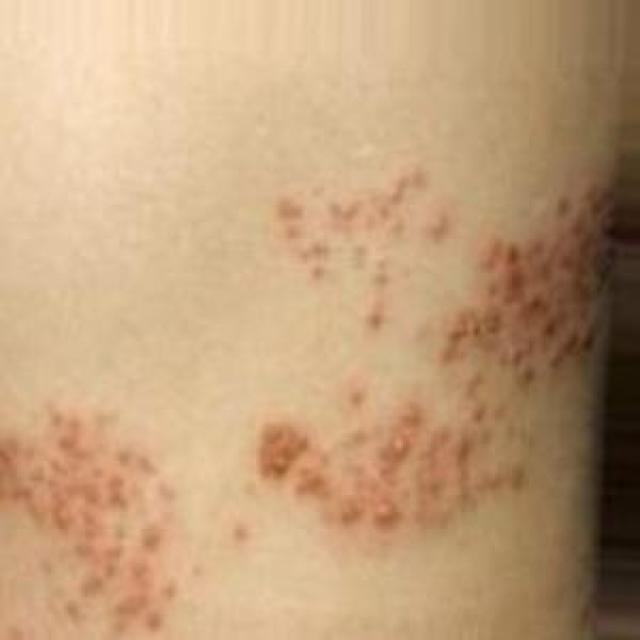Shingles: (0, 398, 181, 639), (252, 389, 526, 537), (442, 183, 615, 382), (271, 164, 453, 323)
